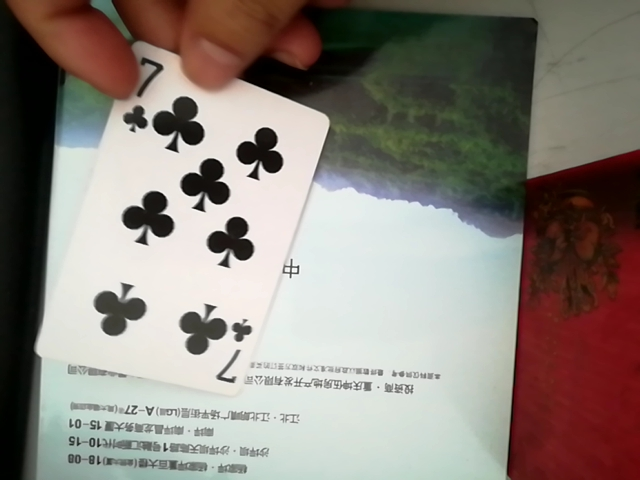mh 7: (42, 53, 322, 400)
